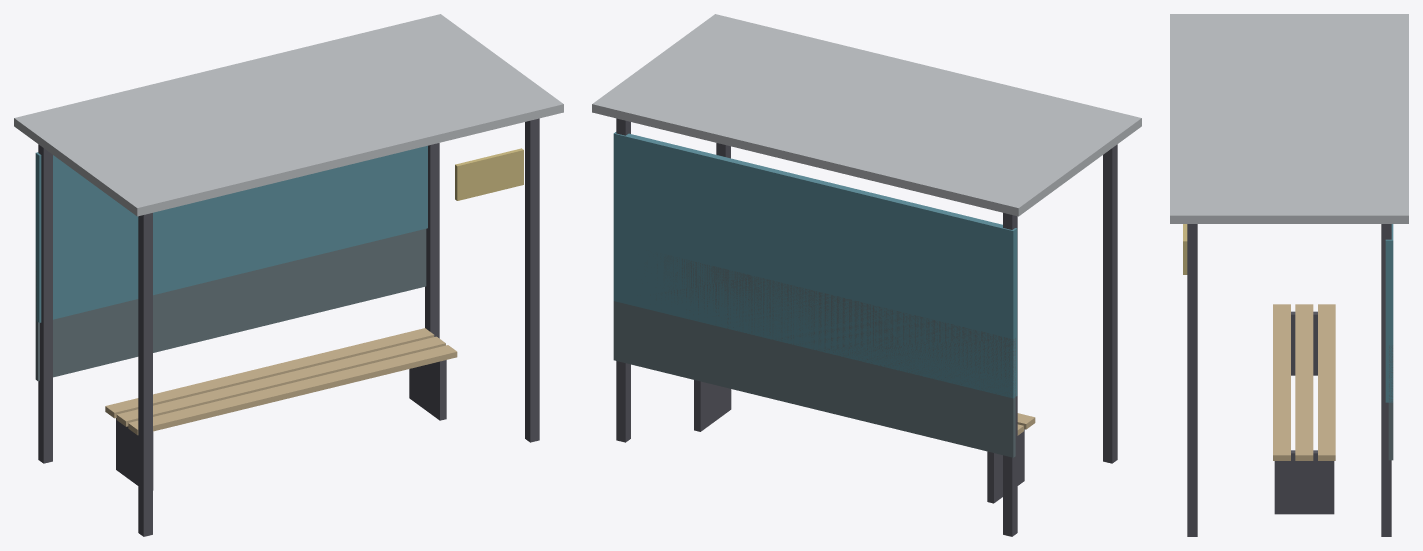
The model's file is mdl_urban_bus_stop_001.glb.
The picture shows the model from 3 angles, left to right: view 1: azimuth 30°, elevation 25°; view 2: azimuth 150°, elevation 25°; view 3: azimuth 270°, elevation 25°; orthographic projection. The views are drawn at different scales.
Parts seen in each view (by area): view 1: m_zinc, m_petroleo, m_vidrio_oscuro, m_carbon, m_madera_clara, m_oro_viejo; view 2: m_petroleo, m_zinc, m_vidrio_oscuro, m_carbon; view 3: m_zinc, m_carbon, m_madera_clara, m_petroleo, m_vidrio_oscuro.
Part boxes in pixels (<box>): m_zinc: <box>14,14,563,216</box>; m_petroleo: <box>35,145,427,322</box>; m_vidrio_oscuro: <box>35,229,426,380</box>; m_carbon: <box>38,118,539,536</box>; m_madera_clara: <box>105,328,457,435</box>; m_oro_viejo: <box>455,148,523,200</box>; m_petroleo: <box>613,132,1017,398</box>; m_zinc: <box>592,14,1141,216</box>; m_vidrio_oscuro: <box>613,254,1015,457</box>; m_carbon: <box>616,118,1117,536</box>; m_zinc: <box>1170,14,1408,223</box>; m_carbon: <box>1187,224,1391,536</box>; m_madera_clara: <box>1273,304,1335,460</box>; m_petroleo: <box>1385,224,1393,402</box>; m_vidrio_oscuro: <box>1388,345,1393,460</box>.
Size of the model in its own units: 3.2 by 2.43 by 1.6.
